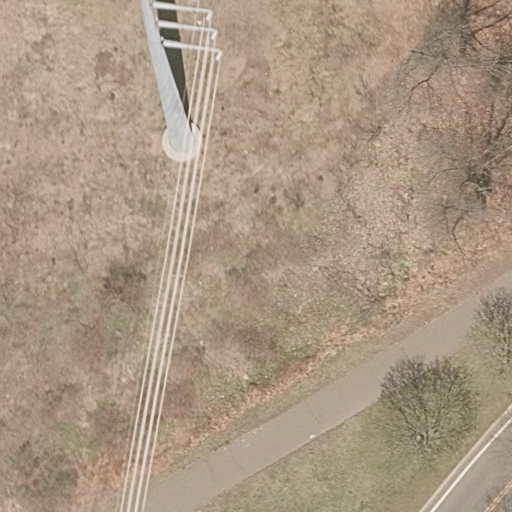TT: (140, 1, 222, 162)
